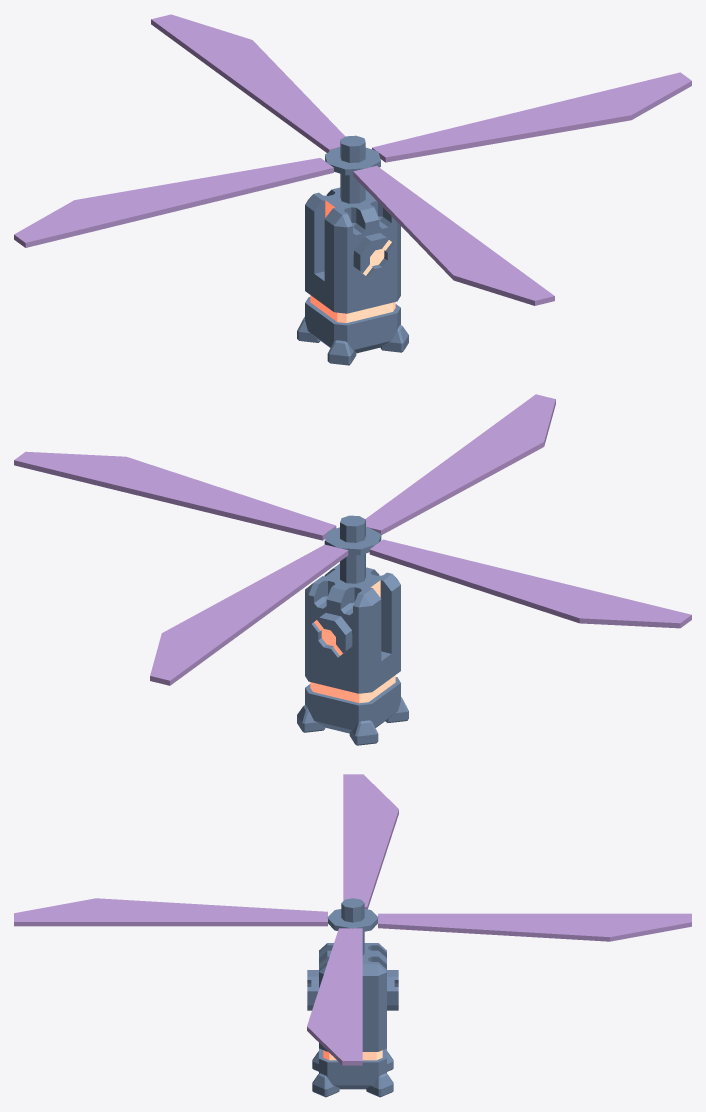
The model's file is Charger1.fbx.
3 renders of one model, top to bottom at view 1: azimuth 30°, elevation 25°; view 2: azimuth 150°, elevation 25°; view 3: azimuth 270°, elevation 25°, orthographic. The views are drawn at different scales.
Visible parts, largest first — view 1: Blades, Main Frame; view 2: Blades, Main Frame; view 3: Blades, Main Frame.
Part boxes in pixels (x1=…): Blades: x1=14, y1=14, x2=691, y2=305; Main Frame: x1=297, y1=135, x2=408, y2=365; Blades: x1=14, y1=394, x2=691, y2=685; Main Frame: x1=297, y1=515, x2=408, y2=745; Blades: x1=14, y1=774, x2=691, y2=1065; Main Frame: x1=307, y1=898, x2=398, y2=1097.
Size of the model in its own units: 451 by 130 by 451.
